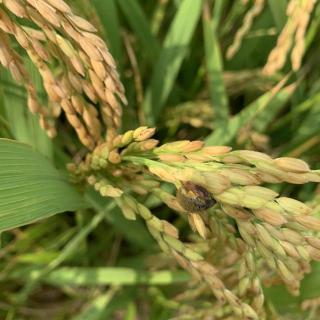Gosong-Palsu: (175, 180, 217, 216)
